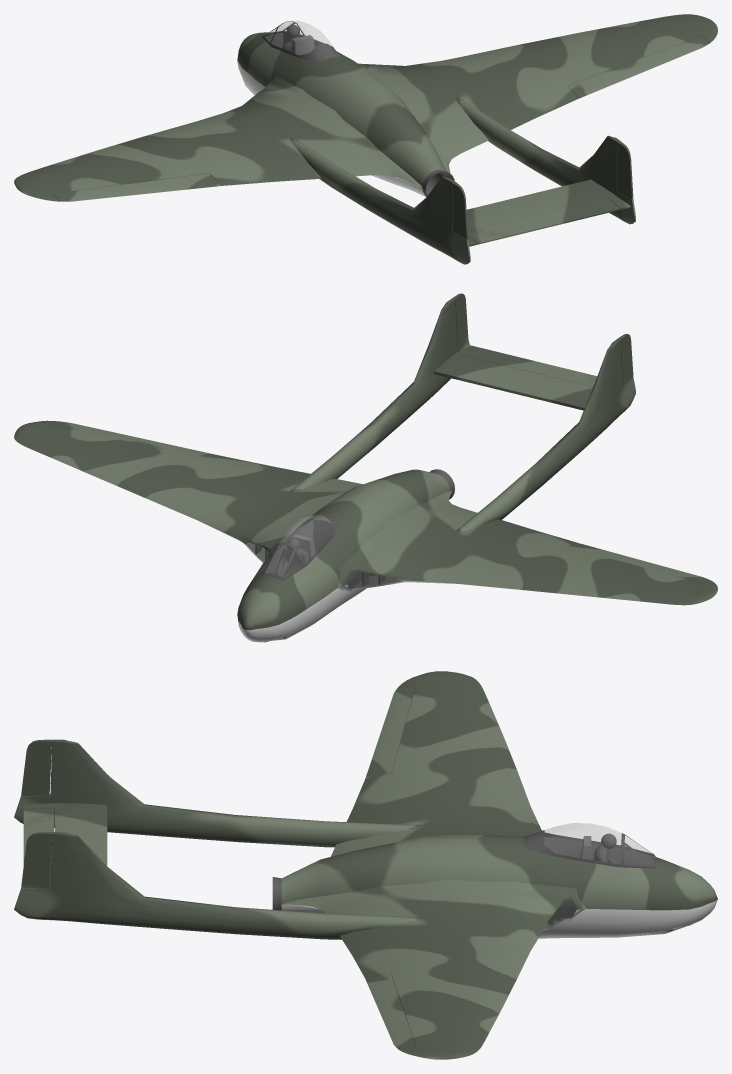
File: Vampire_joined.glb
The picture shows the model from 3 angles, top to bottom: view 1: azimuth 30°, elevation 25°; view 2: azimuth 150°, elevation 25°; view 3: azimuth 270°, elevation 25°; orthographic projection. The views are drawn at different scales.
Visible parts, largest first — view 1: Fuselage_185.522mps_5430kg_24.3m2; view 2: Fuselage_185.522mps_5430kg_24.3m2; view 3: Fuselage_185.522mps_5430kg_24.3m2.
Part boxes in pixels (box(x1,y1,x2,y2)): Fuselage_185.522mps_5430kg_24.3m2: box(14, 14, 717, 264); Fuselage_185.522mps_5430kg_24.3m2: box(14, 293, 717, 642); Fuselage_185.522mps_5430kg_24.3m2: box(14, 671, 717, 1059).
Size of the model in its own units: 11.6 by 2.07 by 8.91.
5 materials, 1 textured.
